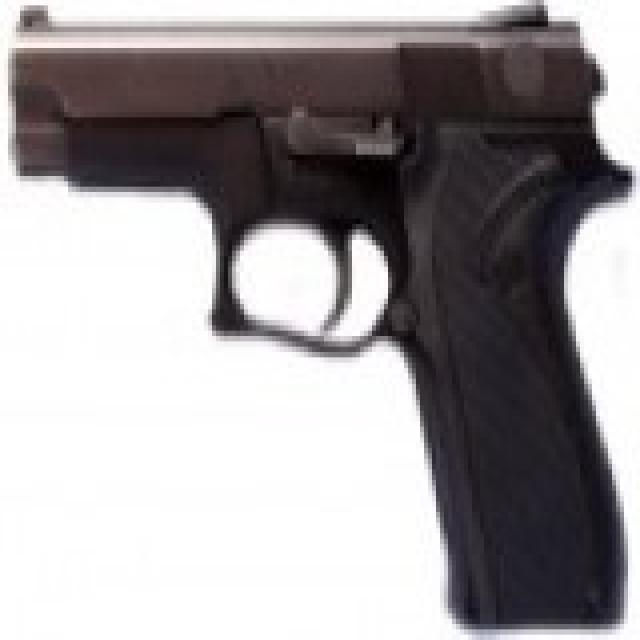gun: (12, 0, 624, 619)
